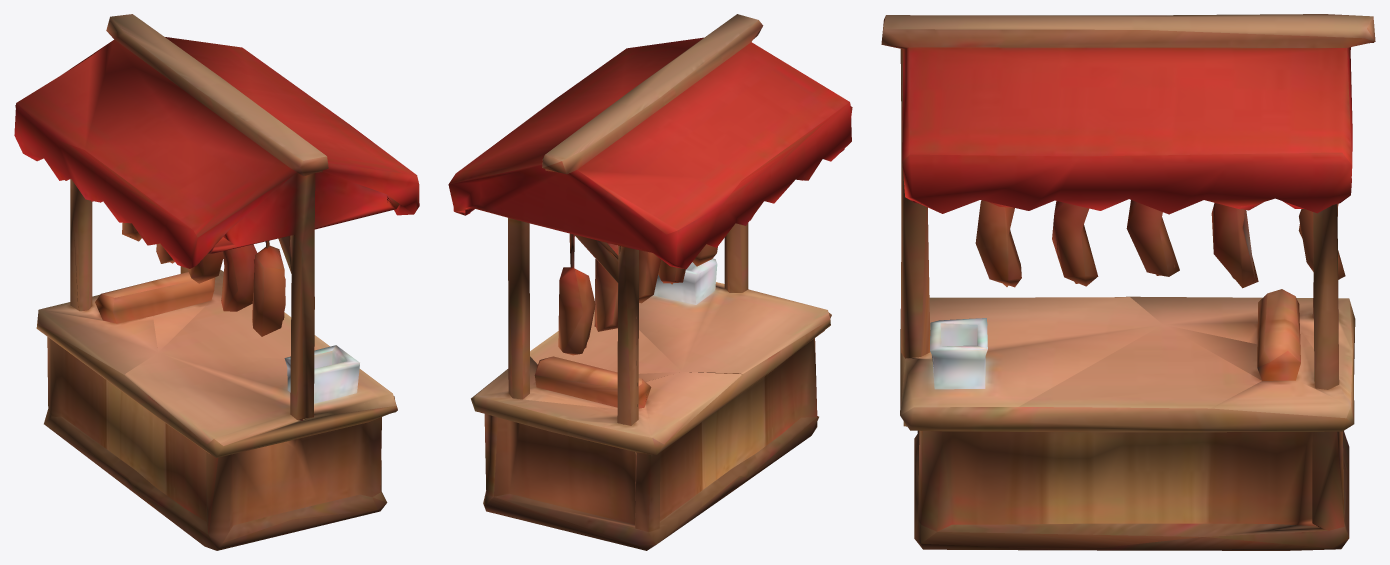
File: lg-market-stall-meat.glb
The picture shows the model from 3 angles, left to right: view 1: azimuth 30°, elevation 25°; view 2: azimuth 150°, elevation 25°; view 3: azimuth 270°, elevation 25°; orthographic projection. The views are drawn at different scales.
Parts seen in each view (by area): view 1: geometry_0; view 2: geometry_0; view 3: geometry_0.
Boxes of the visible parts, x1=… form: geometry_0: x1=14, y1=14, x2=419, y2=550; geometry_0: x1=448, y1=14, x2=852, y2=550; geometry_0: x1=881, y1=14, x2=1375, y2=550.
Bounding box in the file's own units: 0.6284 × 1 × 0.9308.
Materials: 1 (1 with a texture image).
